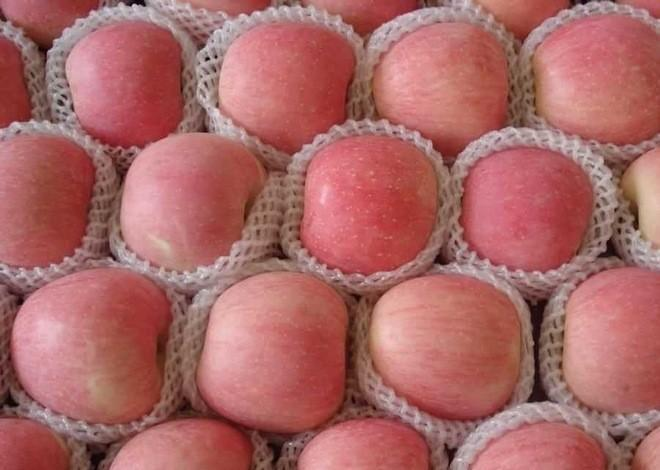apple: (10, 267, 170, 430), (194, 271, 347, 435), (363, 270, 529, 420), (211, 11, 359, 155), (369, 18, 517, 156), (119, 133, 262, 266), (302, 136, 439, 271), (561, 262, 659, 444), (466, 147, 593, 274), (533, 14, 657, 142), (63, 19, 184, 141), (1, 135, 91, 265)
